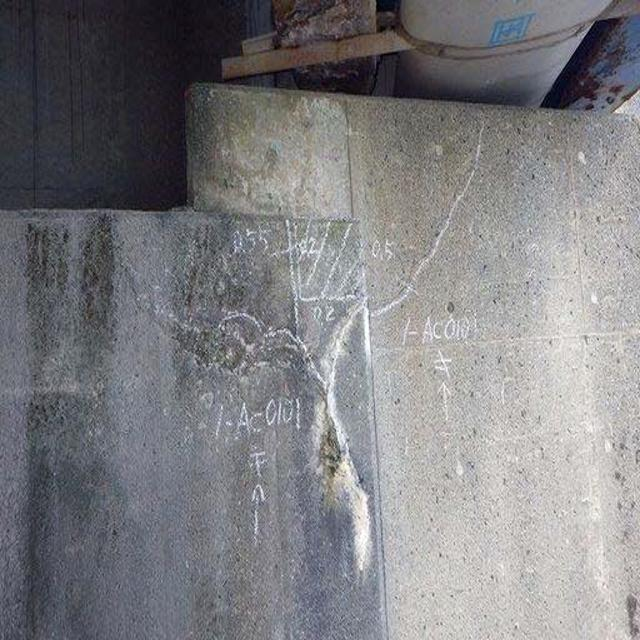freelime: (287, 306, 376, 578)
